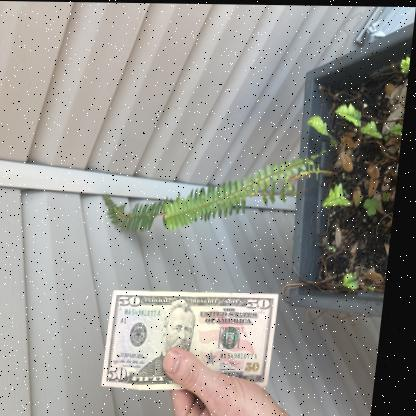fifty-front: (110, 288, 284, 388)
